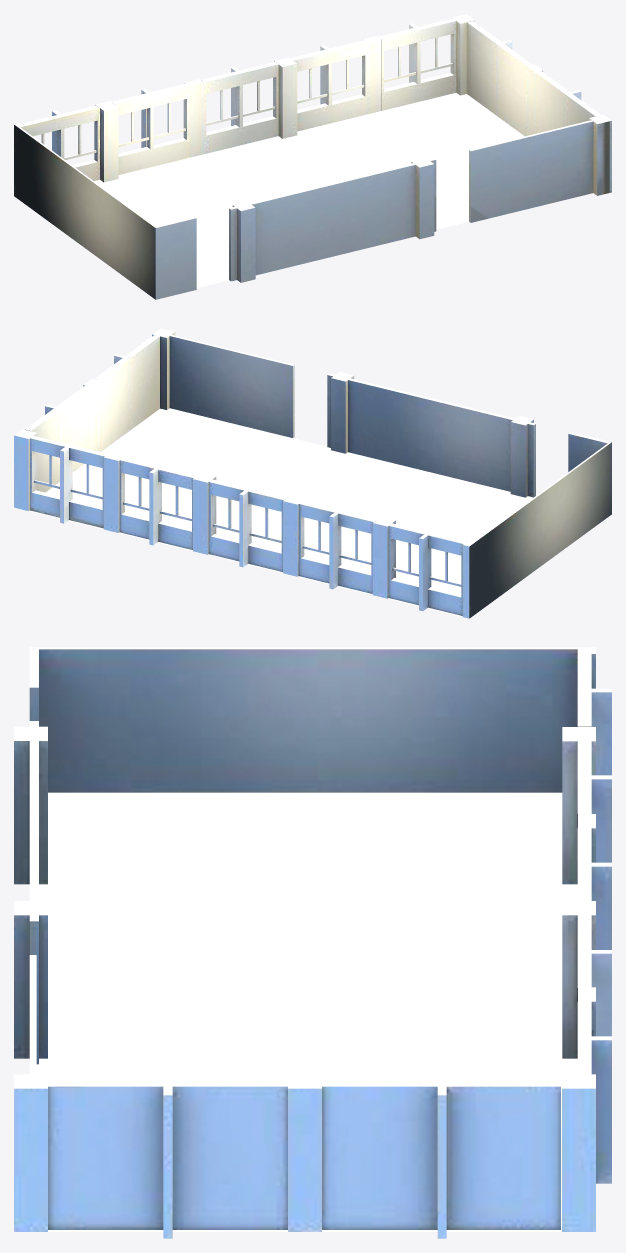
The picture shows the model from 3 angles, top to bottom: view 1: azimuth 30°, elevation 25°; view 2: azimuth 150°, elevation 25°; view 3: azimuth 270°, elevation 25°; orthographic projection. The views are drawn at different scales.
Visible parts, largest first — view 1: hb_1floor_room04 (1)_0; view 2: hb_1floor_room04 (1)_0; view 3: hb_1floor_room04 (1)_0.
Boxes of the visible parts, left/top/right/bottom form: hb_1floor_room04 (1)_0: left=14, top=14, right=611, bottom=299; hb_1floor_room04 (1)_0: left=14, top=328, right=611, bottom=618; hb_1floor_room04 (1)_0: left=14, top=647, right=611, bottom=1238.
Bounding box in the file's own units: 2.41 × 0.3596 × 1.36.
Materials: 1 (1 with a texture image).
